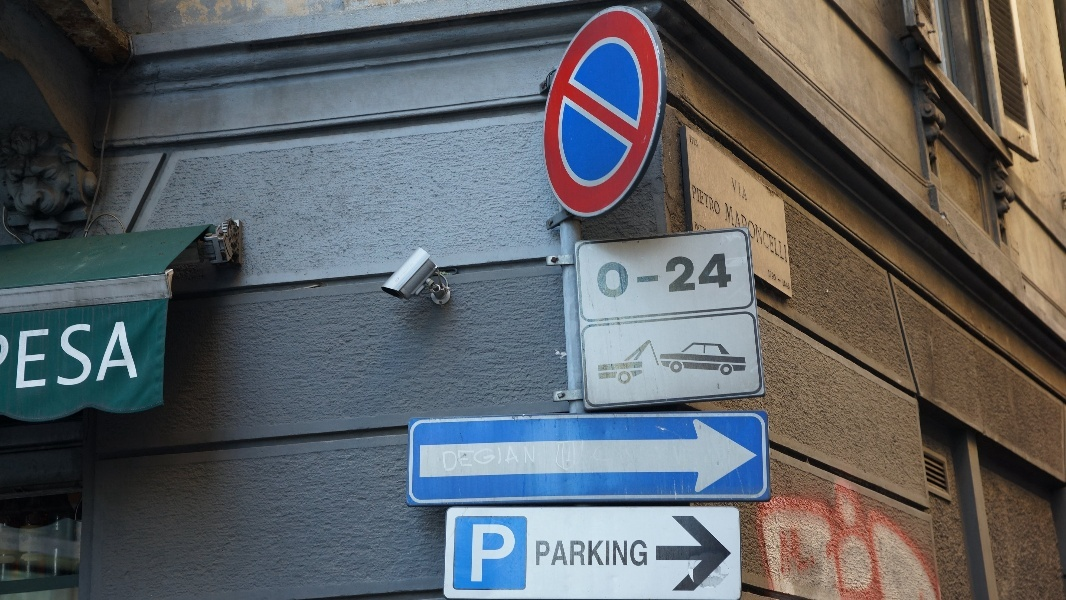text: (1, 320, 16, 391), (17, 320, 32, 391), (33, 320, 48, 391), (49, 320, 64, 391), (65, 320, 80, 391), (81, 320, 96, 391), (97, 320, 112, 391), (113, 320, 128, 391), (737, 201, 752, 265), (753, 201, 768, 265), (769, 201, 784, 265), (481, 524, 496, 582), (497, 524, 512, 582), (609, 253, 624, 300), (625, 253, 640, 300), (641, 253, 656, 300), (657, 253, 672, 300), (673, 253, 688, 300), (689, 253, 704, 300), (705, 253, 720, 300), (726, 201, 736, 265), (129, 320, 138, 391), (721, 253, 734, 300), (705, 183, 720, 218), (598, 253, 608, 300), (449, 444, 464, 472), (465, 444, 480, 472), (481, 444, 496, 472), (497, 444, 512, 472), (513, 444, 528, 472), (692, 183, 704, 218), (473, 524, 480, 582), (545, 540, 560, 567), (561, 540, 576, 567), (577, 540, 592, 567), (593, 540, 608, 567), (609, 540, 624, 567), (625, 540, 640, 567), (737, 175, 750, 204), (769, 269, 784, 292), (785, 201, 789, 265), (536, 540, 544, 567), (690, 134, 704, 149), (641, 540, 648, 567), (566, 446, 576, 464), (513, 524, 516, 582), (442, 444, 448, 472), (529, 444, 535, 472), (731, 175, 736, 204), (785, 269, 791, 292), (694, 222, 704, 232), (721, 183, 722, 218), (705, 222, 707, 232)
